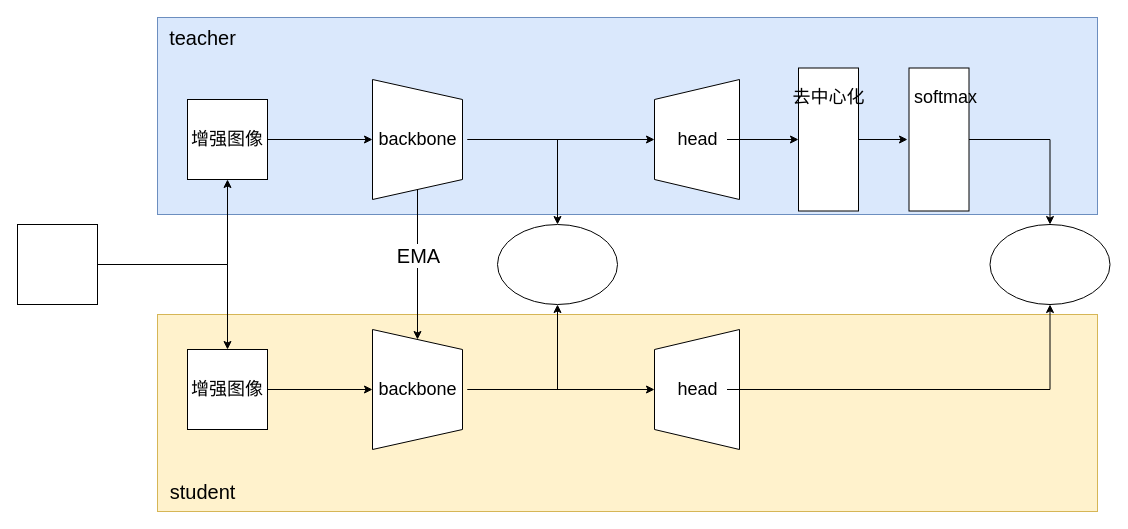
This 1128x529 diagram has some shape labels left out. The centre of each missing label's shape, as x and y in pixels:
dino_loss: the point at 1049,264
hash_loss: the point at 557,264
原始图像: the point at 57,264
